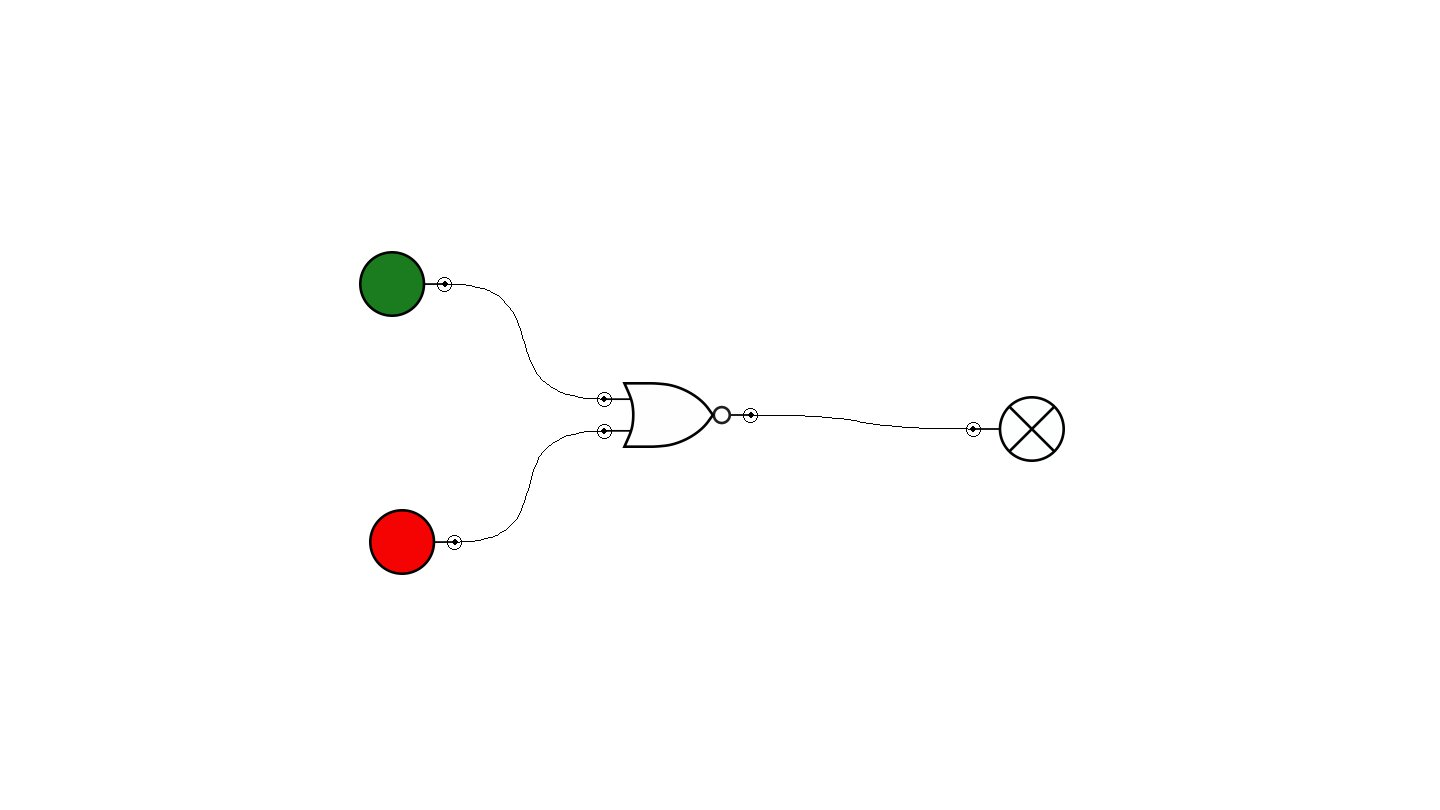bulb: (966, 396, 1065, 462)
nor: (597, 382, 758, 448)
switch_False: (369, 509, 462, 575)
switch_True: (359, 251, 452, 317)
